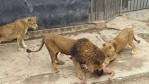lion: (45, 38, 105, 84), (102, 26, 141, 66), (2, 14, 38, 52)
